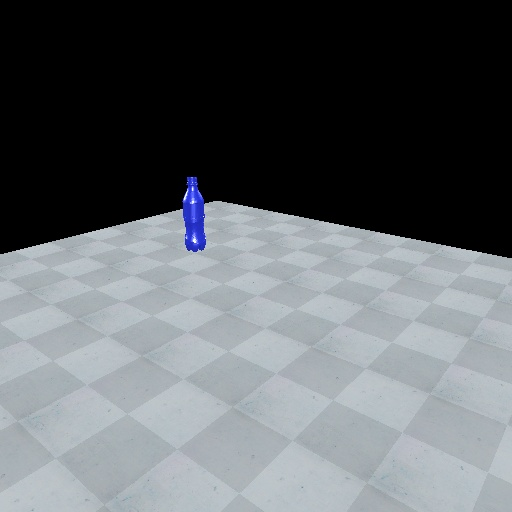bottle: (179, 173, 209, 254)
